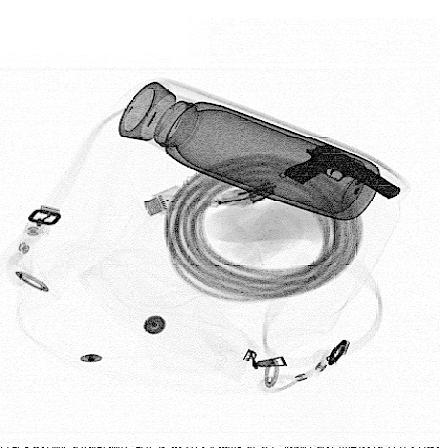Gun: (283, 144, 401, 199)
